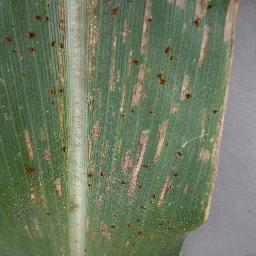Gray_Leaf_Spot: (83, 0, 171, 256), (172, 0, 244, 239), (18, 126, 54, 173), (49, 25, 66, 109), (24, 0, 67, 24), (22, 177, 48, 207), (56, 109, 69, 155), (20, 215, 40, 240), (66, 188, 80, 218), (0, 26, 18, 49), (52, 175, 65, 199), (26, 45, 39, 59), (24, 27, 36, 42), (44, 209, 53, 220)
